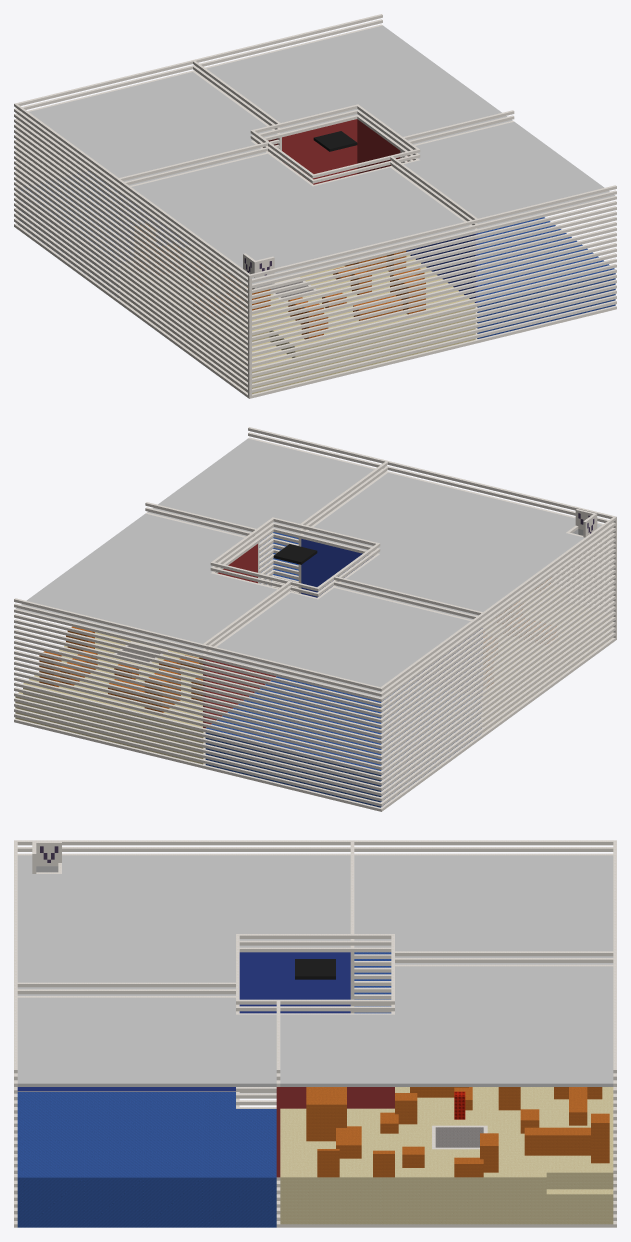
File: minecraft.obj
The picture shows the model from 3 angles, top to bottom: view 1: azimuth 30°, elevation 25°; view 2: azimuth 150°, elevation 25°; view 3: azimuth 270°, elevation 25°; orthographic projection. The views are drawn at different scales.
Size of the model in its own units: 1470 by 490 by 1630.
